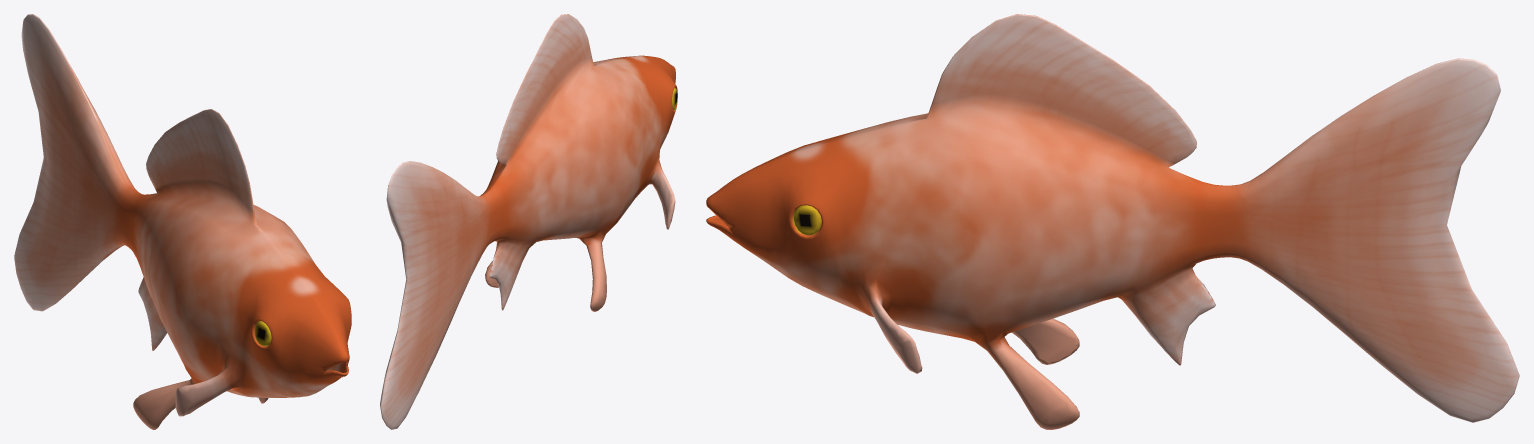
Rendered from Koi_GoldFish.fbx.
3 views of the same model, side by side, from view 1: azimuth 30°, elevation 25°; view 2: azimuth 150°, elevation 25°; view 3: azimuth 270°, elevation 25° (orthographic). The views are drawn at different scales.
Visible parts, largest first — view 1: GoldFish; view 2: GoldFish; view 3: GoldFish.
Boxes of the visible parts, left/top/right/bottom form: GoldFish: left=14, top=14, right=351, bottom=429; GoldFish: left=380, top=14, right=677, bottom=429; GoldFish: left=706, top=14, right=1519, bottom=429.
Bounding box in the file's own units: 9.38 × 17.6 × 31.73.
1 material, 1 textured.
